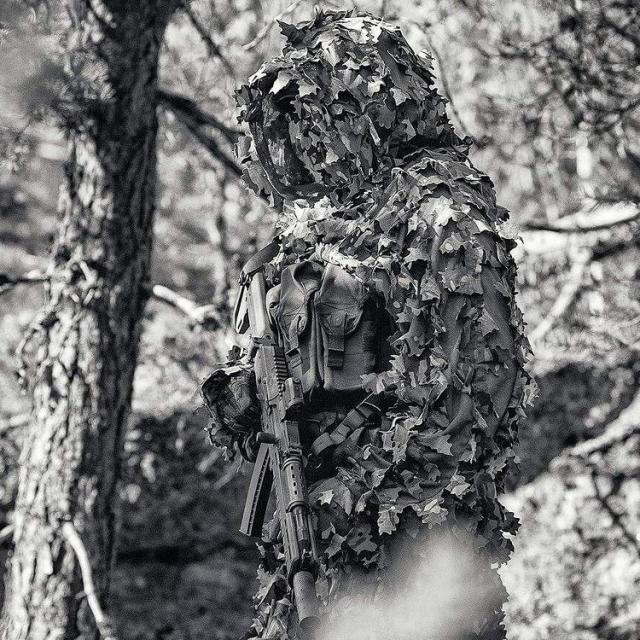human: (201, 8, 540, 639)
